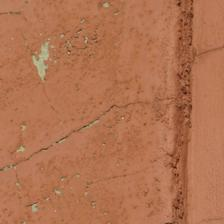Crack: (4, 99, 146, 175), (29, 36, 59, 87), (2, 9, 30, 27)
